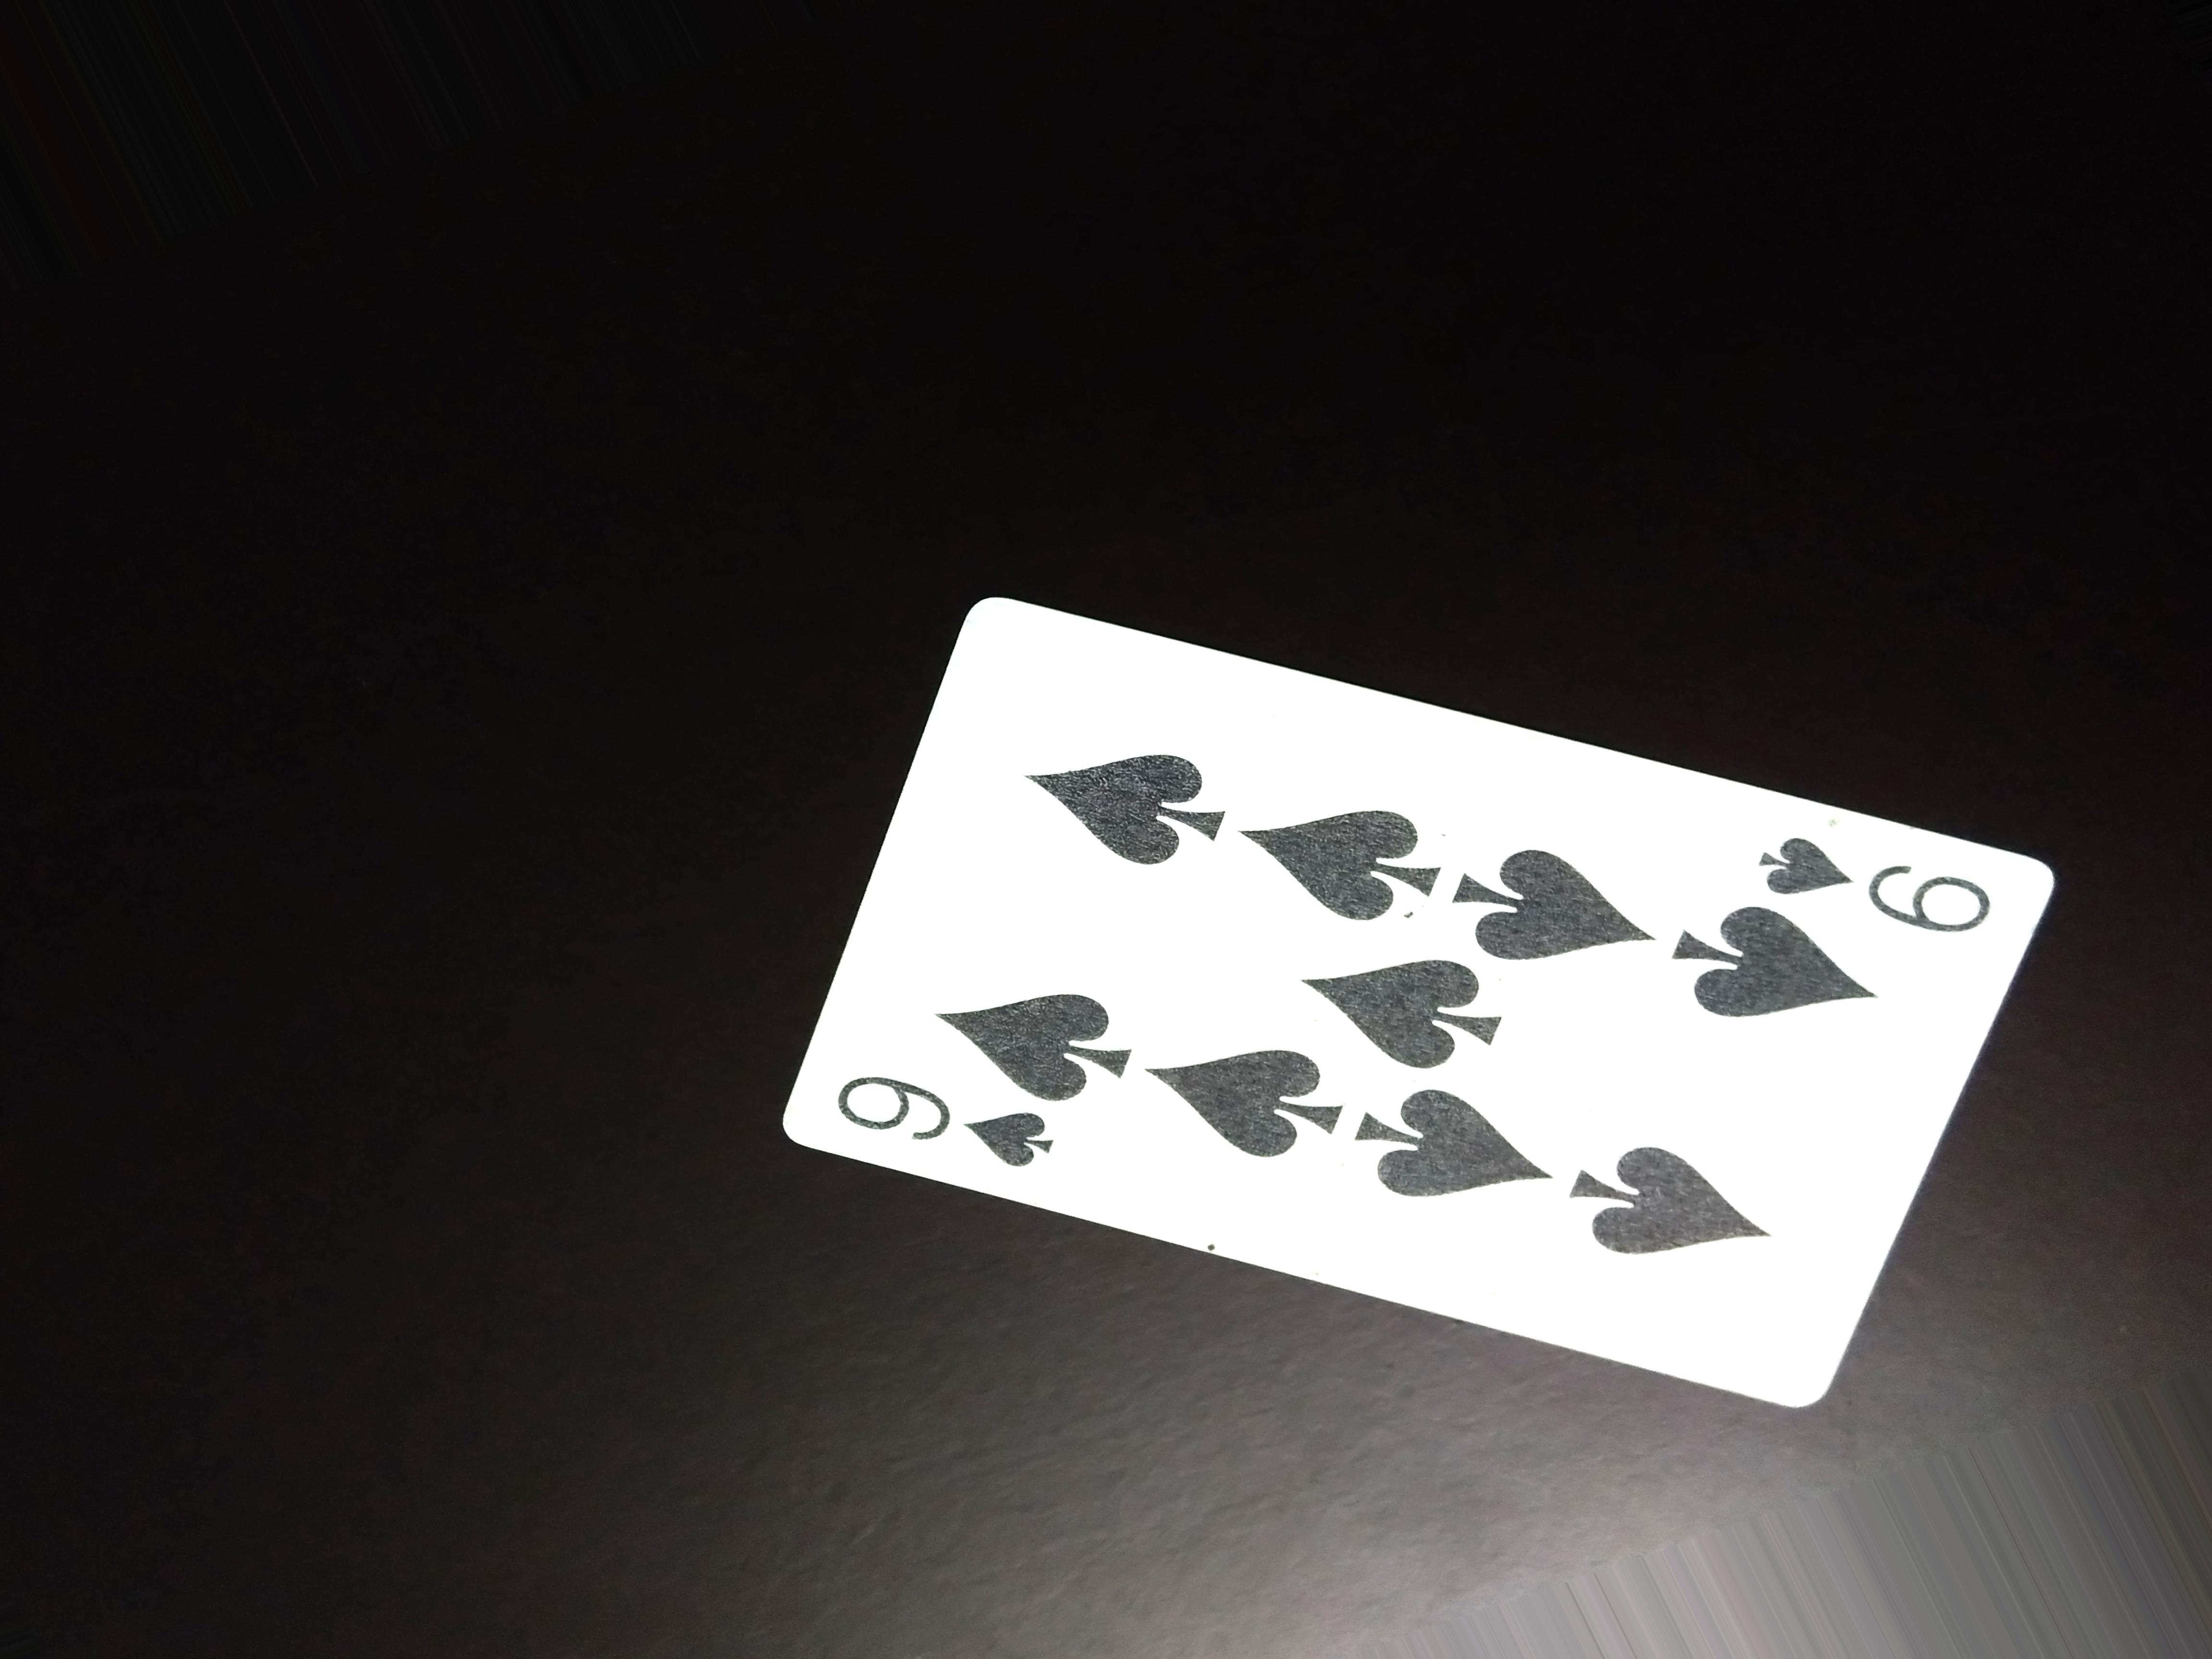9S: (1745, 810, 2019, 922)
